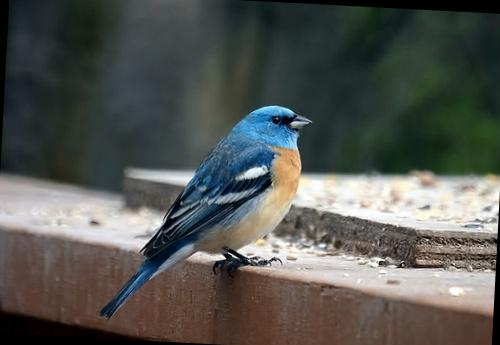bird: (77, 86, 326, 336)
